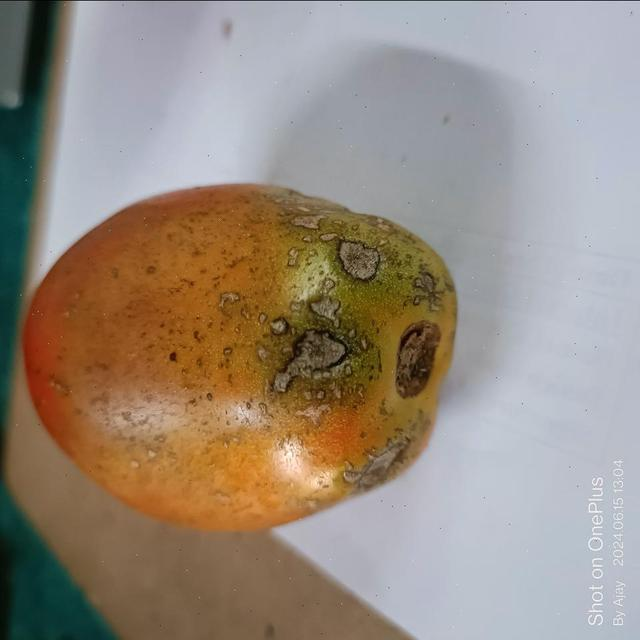Bacterial Spot Fruit: (17, 26, 283, 311)
